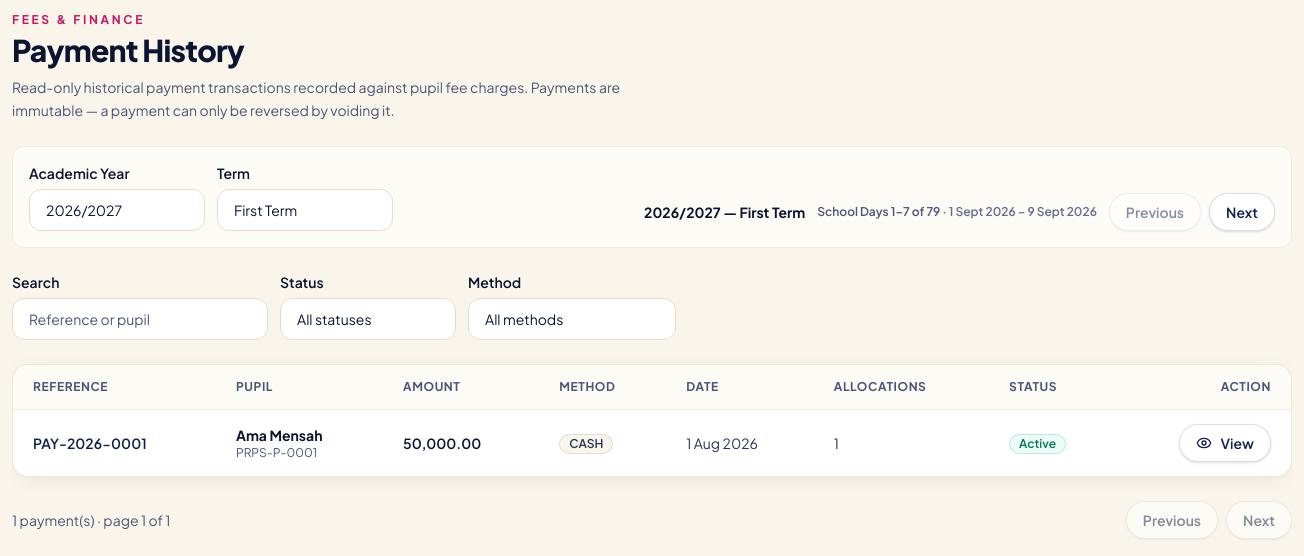
it: PaymentsPage › navigates to the next 7 school days window
The image size is (1304, 556).
Click the button with aria-label "Next 7 school days": (1242, 212) x1=1209 y1=192 x2=1275 y2=230
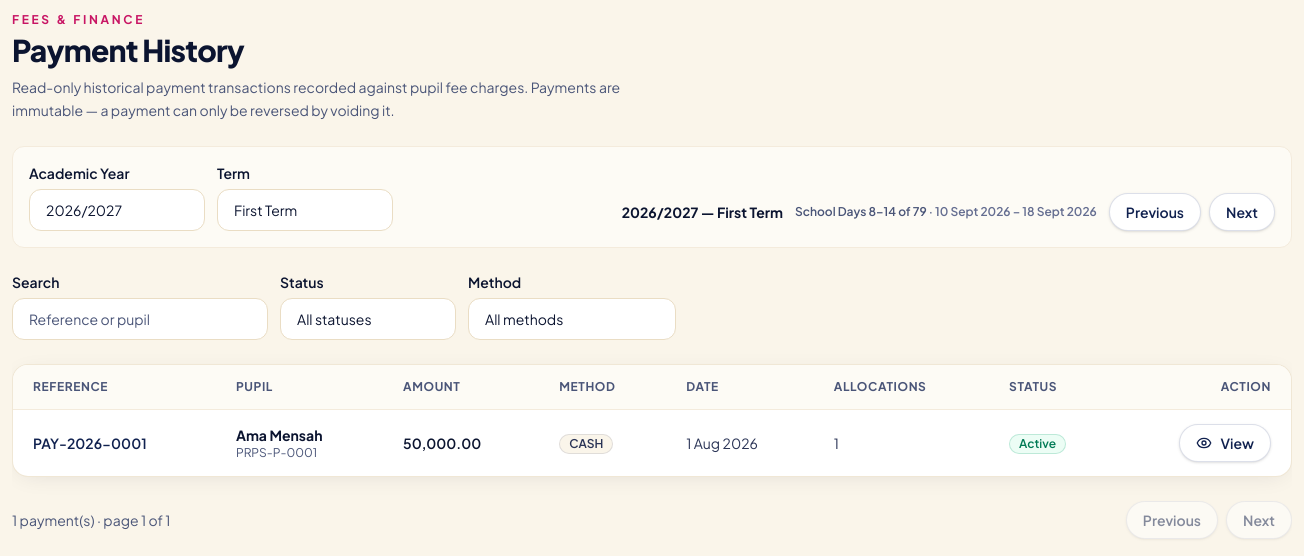
Result: the text "School Days 8–14 of 79 · 10 Sept 2026 – 18 Sept 2026" is shown at x1=795 y1=204 x2=1097 y2=220
Result: the button with aria-label "Previous 7 school days" is enabled at x1=1109 y1=192 x2=1201 y2=230
